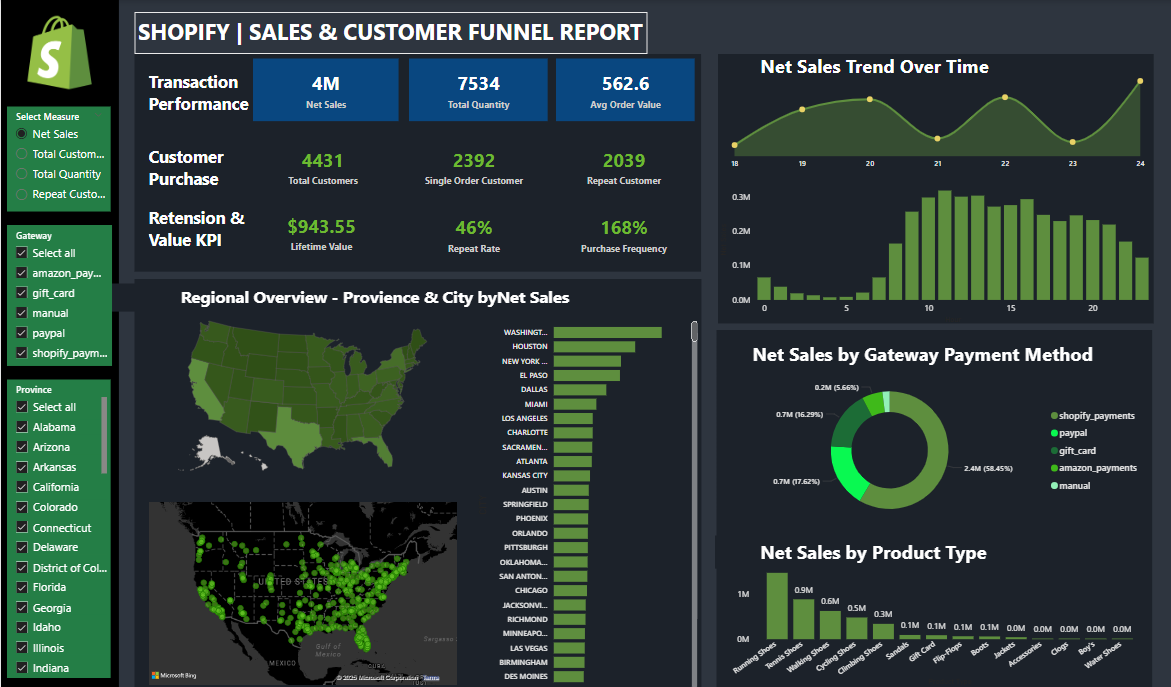

This screenshot's page, from the dashboard's own definition file:
{"tool":"powerbi","page":{"name":"Page 1","canvas":[1700,1000],"ordinal":0},"visuals":[{"type":"shape","box":[0,0,170.7,998.9],"z":0},{"type":"textbox","box":[193.3,17.6,742.9,60.2],"z":1000},{"type":"shape","box":[193,78,820,315],"z":2000},{"type":"card","fields":{"Values":["shopify_sales.sum_subtotal_price"]},"box":[363.9,85.3,210.8,90.4],"z":3000},{"type":"card","fields":{"Values":["shopify_sales.total_quantity"]},"box":[589.8,85.3,200.8,90.4],"z":4000},{"type":"card","fields":{"Values":["shopify_sales.Repeat Customer"]},"box":[800.6,195.2,200.8,90.4],"z":5000},{"type":"card","fields":{"Values":["shopify_sales.Total Customers"]},"box":[361.4,194.5,210.8,90.4],"z":6000},{"type":"card","fields":{"Values":["shopify_sales.Single Order Customer"]},"box":[584.8,195.2,200.8,90.4],"z":7000},{"type":"card","fields":{"Values":["shopify_sales.avg_order_value"]},"box":[803.2,85.3,200.8,90.4],"z":8000},{"type":"textbox","box":[208.3,203.3,140.6,90.4],"z":9000},{"type":"textbox","box":[208.3,95.4,210.8,80.3],"z":10000},{"type":"card","fields":{"Values":["shopify_sales.Purchase Frequency"]},"box":[800.6,293.7,200.8,90.4],"z":11000},{"type":"card","fields":{"Values":["shopify_sales.Lifetime Value"]},"box":[358.9,291.1,210.8,90.4],"z":12000},{"type":"card","fields":{"Values":["shopify_sales.Repeat Rate"]},"box":[583.1,293.6,200.8,90.4],"z":13000},{"type":"textbox","box":[208.3,293.7,163.1,77.8],"z":14000},{"type":"shape","box":[193.3,404.1,820.7,594.8],"z":15000},{"type":"shapeMap","fields":{"Value":["shopify_sales.Net Sales"],"Category":["shopify_sales.Billing Address Province"]},"box":[207.6,448.2,455.8,250.7],"z":16000},{"type":"slicer","fields":{"Values":["Select Major.Select Major"]},"box":[8.7,154.1,149.8,152],"z":17000},{"type":"map","fields":{"Category":["shopify_sales.Location"]},"box":[207.6,721.7,455.8,276],"z":18000},{"type":"clusteredBarChart","fields":{"Y":["shopify_sales.Net Sales"],"Category":["shopify_sales.CITY"]},"box":[683.7,450.7,329.2,549.5],"z":19000},{"type":"card","fields":{"Values":["shopify_sales.Map Title"]},"box":[159.5,410.2,764.8,40.5],"z":20000},{"type":"shape","box":[1038.2,78.5,630.5,390],"z":21000},{"type":"areaChart","fields":{"Category":["shopify_sales.Invoice Date.Variation.Date Hierarchy.Day"],"Y":["shopify_sales.Net Sales"]},"box":[1045.8,93.7,617.9,159.5],"z":21001},{"type":"columnChart","fields":{"Category":["shopify_sales.Hour"],"Y":["shopify_sales.Net Sales"]},"box":[1035.7,245.6,630.5,227.9],"z":21002},{"type":"card","fields":{"Values":["Select Major.Trend Title"]},"box":[1045.8,78.5,435.6,35.5],"z":21003},{"type":"shape","box":[1035.7,478.6,630.5,519.1],"z":21004},{"type":"donutChart","fields":{"Category":["shopify_sales.Gateway"],"Y":["shopify_sales.Net Sales"]},"box":[1048.4,536.8,610.3,230.4],"z":21005},{"type":"card","fields":{"Values":["shopify_sales.gateway title"]},"box":[1038.2,486.2,592.6,53.2],"z":21006},{"type":"columnChart","fields":{"Category":["shopify_sales.Product Type"],"Y":["shopify_sales.Net Sales"]},"box":[1048.4,795.1,610.3,202.6],"z":21007},{"type":"card","fields":{"Values":["shopify_sales.Prdoct Title"]},"box":[1033.2,774.9,458.3,48.1],"z":21008},{"type":"image","box":[10.9,17.4,147.6,117.2],"z":21009},{"type":"slicer","fields":{"Values":["shopify_sales.Gateway"]},"box":[8.7,325.6,152,204.1],"z":21010},{"type":"slicer","fields":{"Values":["shopify_sales.Billing Address Province"]},"box":[8.7,549.2,149.8,432],"z":21011}]}

Visuals, with their boxes on the page's 1700x1000 design canvas (x1, y1, x2, y2). These are canvas units, not pixel positions in the 1171x687 screenshot, which may show the page scaled, cropped or inside an application window:
shape: (0, 0, 171, 999)
textbox: (193, 18, 936, 78)
shape: (193, 78, 1013, 393)
card - shopify_sales.sum_subtotal_price: (364, 85, 575, 176)
card - shopify_sales.total_quantity: (590, 85, 791, 176)
card - shopify_sales.Repeat Customer: (801, 195, 1001, 286)
card - shopify_sales.Total Customers: (361, 194, 572, 285)
card - shopify_sales.Single Order Customer: (585, 195, 786, 286)
card - shopify_sales.avg_order_value: (803, 85, 1004, 176)
textbox: (208, 203, 349, 294)
textbox: (208, 95, 419, 176)
card - shopify_sales.Purchase Frequency: (801, 294, 1001, 384)
card - shopify_sales.Lifetime Value: (359, 291, 570, 382)
card - shopify_sales.Repeat Rate: (583, 294, 784, 384)
textbox: (208, 294, 371, 372)
shape: (193, 404, 1014, 999)
shapeMap - shopify_sales.Net Sales x shopify_sales.Billing Address Province: (208, 448, 663, 699)
slicer - Select Major.Select Major: (9, 154, 158, 306)
map - shopify_sales.Location: (208, 722, 663, 998)
clusteredBarChart - shopify_sales.Net Sales x shopify_sales.CITY: (684, 451, 1013, 1000)
card - shopify_sales.Map Title: (160, 410, 924, 451)
shape: (1038, 78, 1669, 468)
areaChart - shopify_sales.Invoice Date.Variation.Date Hierarchy.Day x shopify_sales.Net Sales: (1046, 94, 1664, 253)
columnChart - shopify_sales.Hour x shopify_sales.Net Sales: (1036, 246, 1666, 474)
card - Select Major.Trend Title: (1046, 78, 1481, 114)
shape: (1036, 479, 1666, 998)
donutChart - shopify_sales.Gateway x shopify_sales.Net Sales: (1048, 537, 1659, 767)
card - shopify_sales.gateway title: (1038, 486, 1631, 539)
columnChart - shopify_sales.Product Type x shopify_sales.Net Sales: (1048, 795, 1659, 998)
card - shopify_sales.Prdoct Title: (1033, 775, 1492, 823)
image: (11, 17, 158, 135)
slicer - shopify_sales.Gateway: (9, 326, 161, 530)
slicer - shopify_sales.Billing Address Province: (9, 549, 158, 981)
